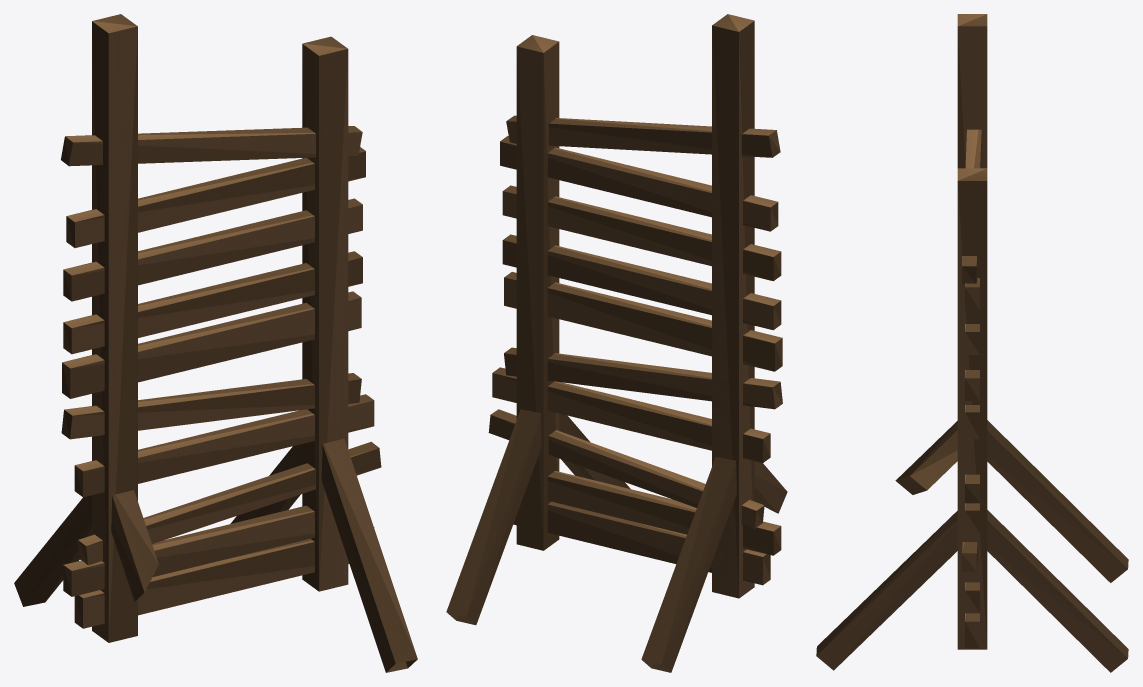
Rendered from Wood_2B.fbx.
The picture shows the model from 3 angles, left to right: view 1: azimuth 30°, elevation 25°; view 2: azimuth 150°, elevation 25°; view 3: azimuth 270°, elevation 25°; orthographic projection. The views are drawn at different scales.
Visible parts, largest first — view 1: polySurface1088; view 2: polySurface1088; view 3: polySurface1088.
Part boxes in pixels (<box>): polySurface1088: <box>14,14,417,672</box>; polySurface1088: <box>446,14,787,672</box>; polySurface1088: <box>816,14,1128,672</box>.
Size of the model in its own units: 426 by 838 by 424.
Materials: 1 (1 with a texture image).
